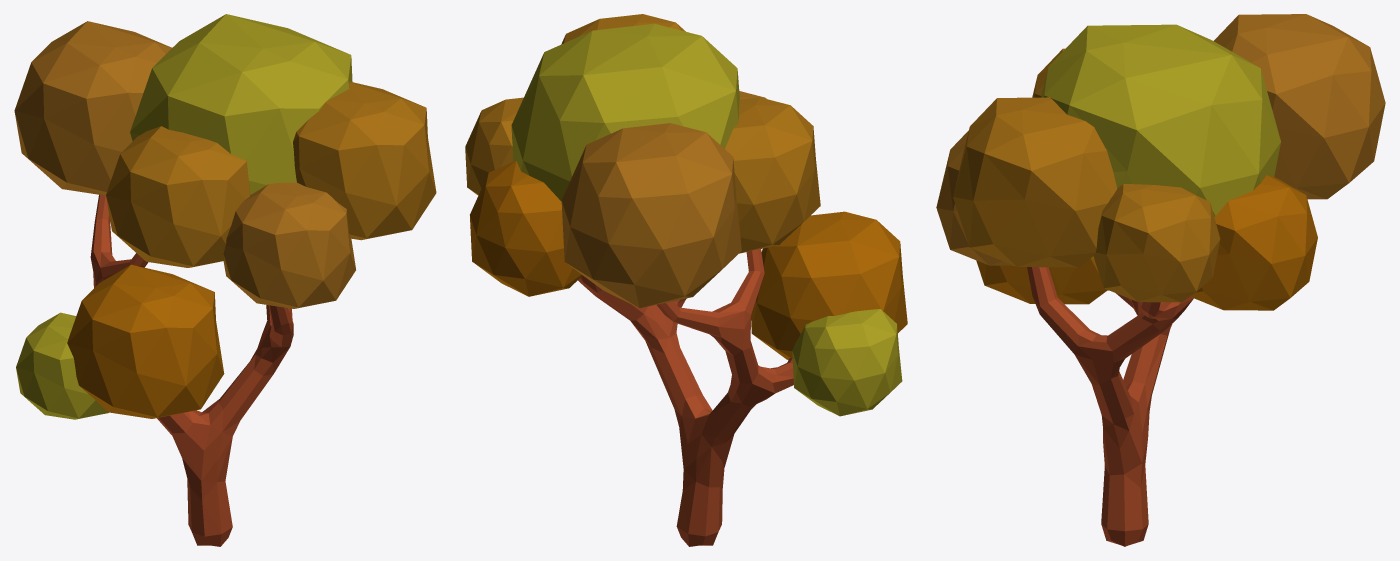
File: treeMedium3.obj
The picture shows the model from 3 angles, left to right: view 1: azimuth 30°, elevation 25°; view 2: azimuth 150°, elevation 25°; view 3: azimuth 270°, elevation 25°; orthographic projection. The views are drawn at different scales.
Visible parts, largest first — view 1: Icosphere.007_Icosphere.036, Icosphere.004_Icosphere.034, Icosphere.002_Icosphere.032, Icosphere.008_Icosphere.037, Icosphere.003_Icosphere.033, Icosphere.005_Icosphere.023, Cube_Cube.005, Icosphere.006_Icosphere.035; view 2: Icosphere.002_Icosphere.032, Icosphere.007_Icosphere.036, Cube_Cube.005, Icosphere.004_Icosphere.034, Icosphere.003_Icosphere.033, Icosphere.001_Icosphere.031, Icosphere.006_Icosphere.035, Icosphere.000_Icosphere.030, Icosphere.008_Icosphere.037; view 3: Icosphere.007_Icosphere.036, Icosphere.008_Icosphere.037, Icosphere.002_Icosphere.032, Cube_Cube.005, Icosphere.000_Icosphere.030, Icosphere.001_Icosphere.031, Icosphere.004_Icosphere.034, Icosphere.005_Icosphere.023.
Boxes of the visible parts, bbox=[...] form: Icosphere.007_Icosphere.036: bbox=[130, 14, 352, 194]; Icosphere.004_Icosphere.034: bbox=[67, 264, 224, 418]; Icosphere.002_Icosphere.032: bbox=[14, 21, 171, 195]; Icosphere.008_Icosphere.037: bbox=[293, 81, 436, 240]; Icosphere.003_Icosphere.033: bbox=[106, 126, 250, 267]; Icosphere.005_Icosphere.023: bbox=[223, 182, 355, 308]; Cube_Cube.005: bbox=[90, 194, 293, 546]; Icosphere.006_Icosphere.035: bbox=[16, 312, 108, 419]; Icosphere.002_Icosphere.032: bbox=[561, 123, 741, 308]; Icosphere.007_Icosphere.036: bbox=[511, 23, 739, 201]; Cube_Cube.005: bbox=[578, 249, 793, 546]; Icosphere.004_Icosphere.034: bbox=[751, 211, 907, 360]; Icosphere.003_Icosphere.033: bbox=[725, 97, 820, 253]; Icosphere.001_Icosphere.031: bbox=[470, 160, 582, 296]; Icosphere.006_Icosphere.035: bbox=[792, 309, 902, 416]; Icosphere.000_Icosphere.030: bbox=[465, 97, 523, 195]; Icosphere.008_Icosphere.037: bbox=[561, 14, 685, 44]; Icosphere.007_Icosphere.036: bbox=[1041, 24, 1280, 258]; Icosphere.008_Icosphere.037: bbox=[953, 97, 1117, 267]; Icosphere.002_Icosphere.032: bbox=[1214, 14, 1385, 199]; Cube_Cube.005: bbox=[1027, 267, 1193, 546]; Icosphere.000_Icosphere.030: bbox=[1093, 184, 1220, 302]; Icosphere.001_Icosphere.031: bbox=[1190, 175, 1317, 310]; Icosphere.004_Icosphere.034: bbox=[976, 258, 1107, 304]; Icosphere.005_Icosphere.023: bbox=[936, 130, 1013, 265].
Bounding box in the file's own units: 4.88 × 5.77 × 4.43.
